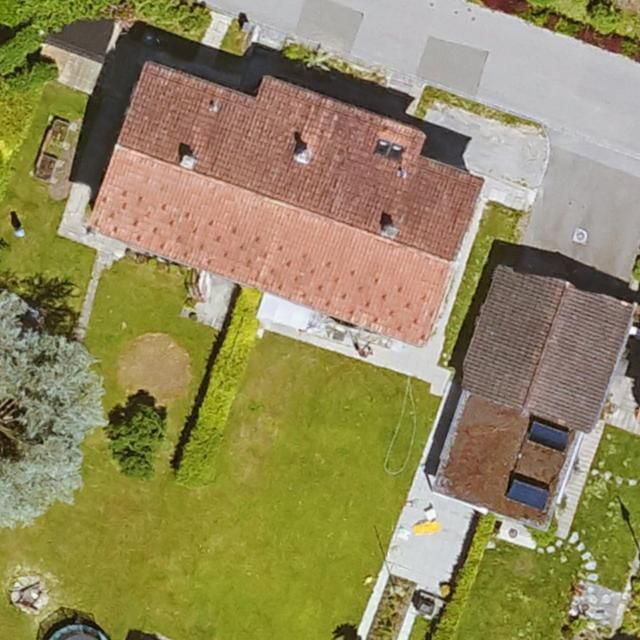tree: (0, 293, 106, 531), (0, 0, 189, 25), (107, 404, 167, 480), (588, 4, 622, 35), (332, 632, 361, 640)
